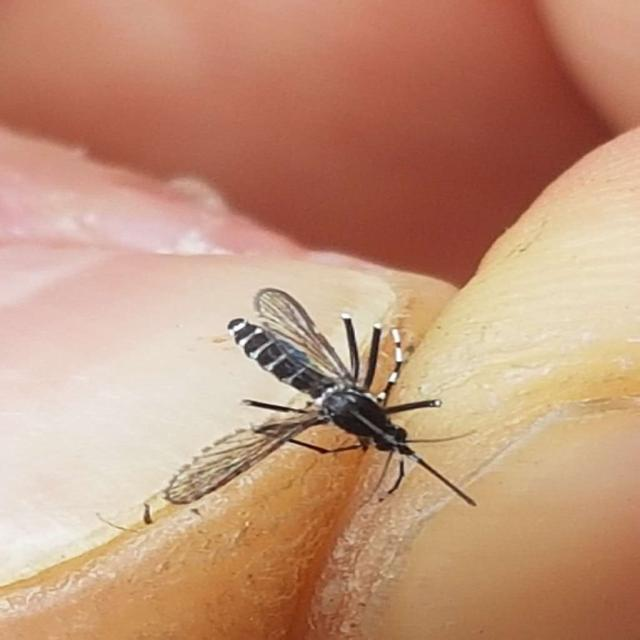albopictus: (98, 281, 490, 547)
